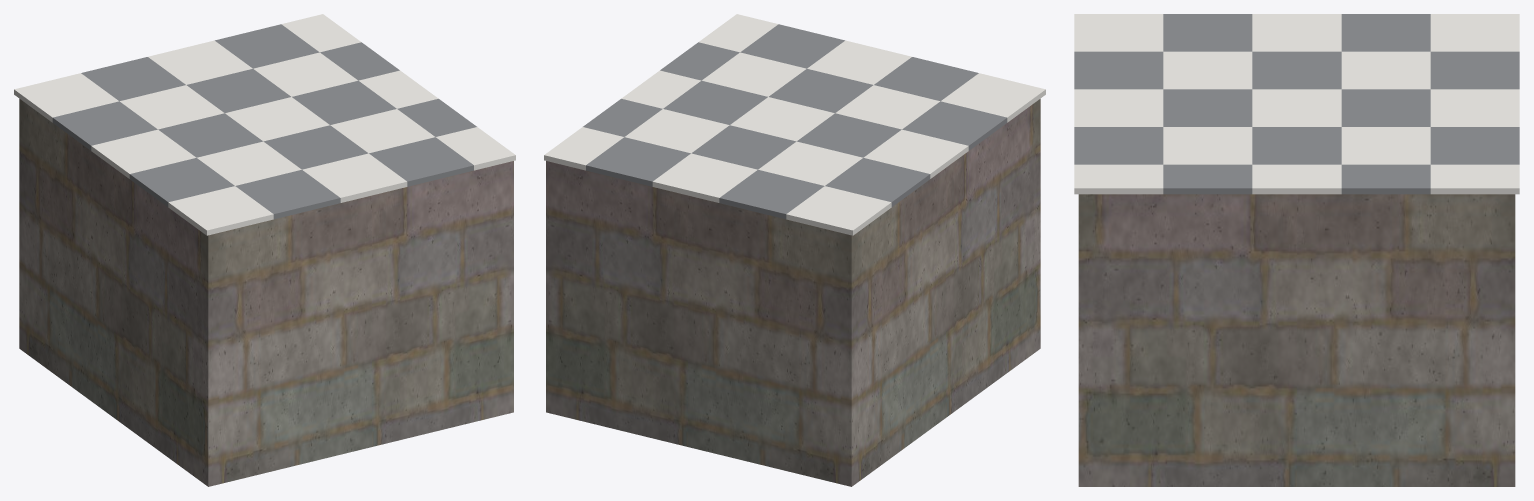
The model's file is floor_hall_g_e0_15_0_0.glb.
3 views of the same model, side by side, from view 1: azimuth 30°, elevation 25°; view 2: azimuth 150°, elevation 25°; view 3: azimuth 270°, elevation 25° (orthographic). The views are drawn at different scales.
Parts seen in each view (by area): view 1: floor_hall_g_e0_15_0_0_plinth, floor_hall_g_e0_15_0_0_marble, floor_hall_g_e0_15_0_0_slate; view 2: floor_hall_g_e0_15_0_0_plinth, floor_hall_g_e0_15_0_0_marble, floor_hall_g_e0_15_0_0_slate; view 3: floor_hall_g_e0_15_0_0_plinth, floor_hall_g_e0_15_0_0_marble, floor_hall_g_e0_15_0_0_slate.
Part boxes in pixels (bbox=[...]): floor_hall_g_e0_15_0_0_plinth: bbox=[19, 99, 513, 486]; floor_hall_g_e0_15_0_0_marble: bbox=[14, 14, 515, 235]; floor_hall_g_e0_15_0_0_slate: bbox=[52, 24, 476, 219]; floor_hall_g_e0_15_0_0_plinth: bbox=[546, 99, 1040, 486]; floor_hall_g_e0_15_0_0_marble: bbox=[544, 14, 1045, 235]; floor_hall_g_e0_15_0_0_slate: bbox=[583, 24, 1007, 219]; floor_hall_g_e0_15_0_0_plinth: bbox=[1078, 194, 1515, 486]; floor_hall_g_e0_15_0_0_marble: bbox=[1074, 14, 1519, 194]; floor_hall_g_e0_15_0_0_slate: bbox=[1074, 14, 1519, 194].
Bounding box in the file's own units: 1.85 × 1.48 × 2.
Materials: 3 (1 with a texture image).
